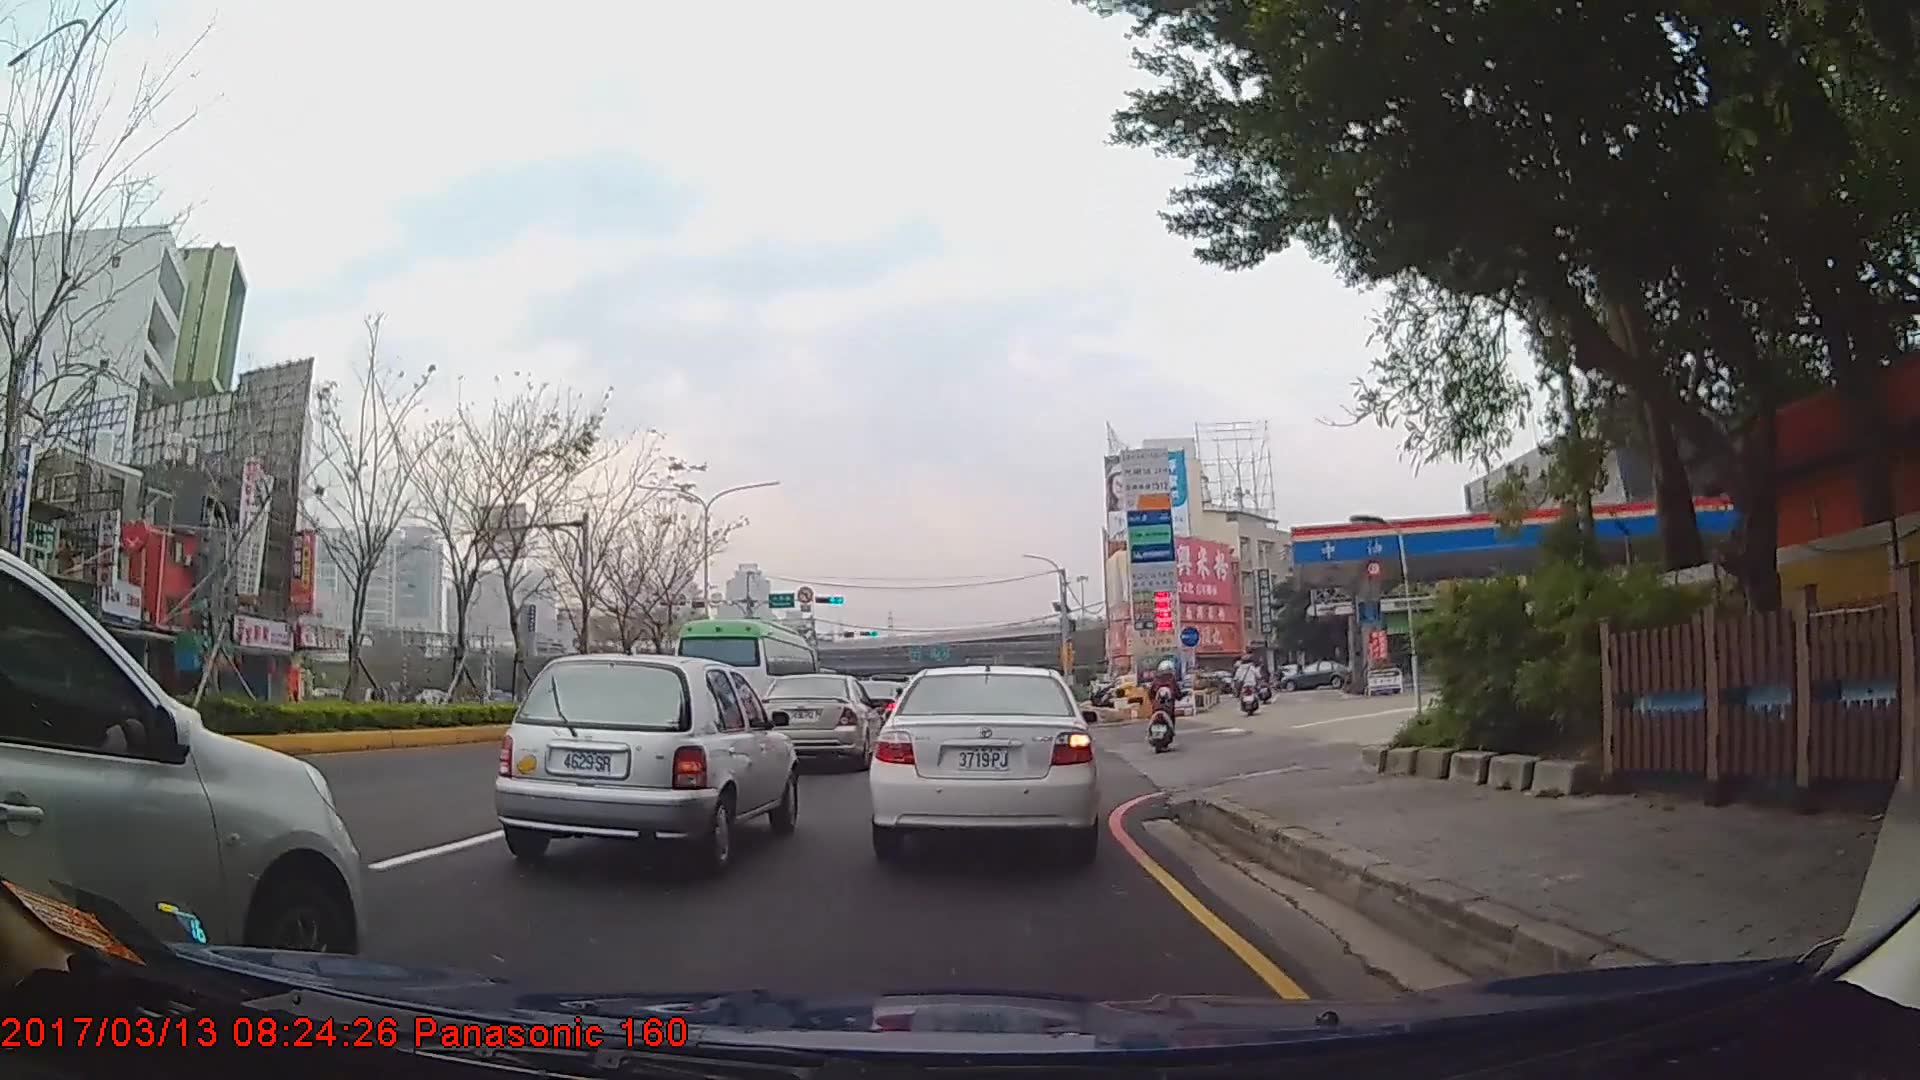rider: (1150, 662, 1183, 756), (1235, 655, 1263, 717)
vehicle: (0, 549, 366, 991), (495, 653, 800, 873), (866, 660, 1098, 863), (669, 616, 817, 734), (752, 672, 880, 768), (1282, 660, 1352, 690)
